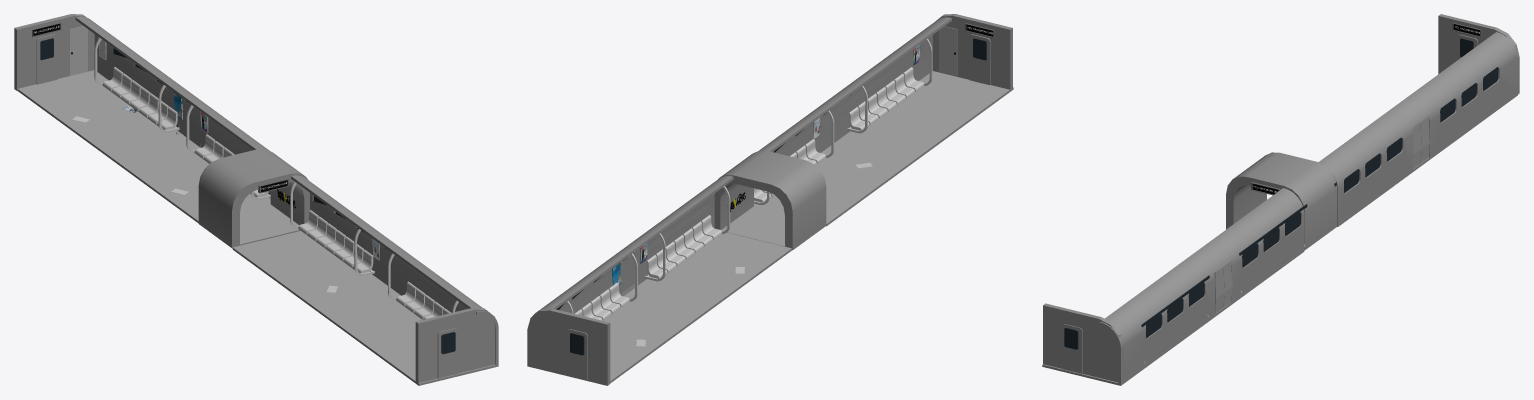
Rendered from MetroEmpty.fbx.
3 renders of one model, left to right at view 1: azimuth 30°, elevation 25°; view 2: azimuth 150°, elevation 25°; view 3: azimuth 330°, elevation 25°, orthographic.
Parts seen in each view (by area): view 1: Cube.012, Cube.011, Cube.014, Cube.013, Cube.020, Cube.021, Cube.017, Cube.001, Cube.002, Cube.005, Cube.041, Cube.009 (+2 smaller); view 2: Cube.012, Cube.011, Cube.014, Cube.020, Cube.013, Cube.009, Cube.001, Cube.017, Cube.044, Cube.041, Cube.005, Cube.021 (+2 smaller); view 3: Cube.012, Cube.011, Cube.014, Cube.013, Cube.020, Cube, Cube.008, Cube.041, Cube.019, Cube.032.
Part boxes in pixels (x1,y1,x2,y2): Cube.012: (232, 175, 498, 385); Cube.011: (17, 16, 270, 223); Cube.014: (198, 149, 309, 248); Cube.013: (415, 307, 495, 383); Cube.020: (14, 14, 94, 90); Cube.021: (298, 210, 373, 273); Cube.017: (102, 67, 177, 129); Cube.001: (396, 281, 450, 319); Cube.002: (70, 26, 87, 75); Cube.005: (36, 34, 57, 84); Cube.041: (437, 328, 458, 378); Cube.009: (194, 134, 268, 197); Cube.012: (754, 17, 1013, 226); Cube.011: (533, 176, 791, 383); Cube.014: (714, 150, 826, 250); Cube.020: (527, 308, 610, 385); Cube.013: (933, 14, 1012, 89); Cube.009: (646, 215, 721, 278); Cube.001: (849, 67, 924, 130); Cube.017: (574, 282, 629, 320); Cube.044: (939, 26, 957, 76); Cube.041: (969, 34, 990, 85); Cube.005: (566, 329, 587, 379); Cube.021: (754, 139, 825, 202); Cube.012: (1042, 188, 1304, 385); Cube.011: (1318, 32, 1517, 226); Cube.014: (1226, 152, 1337, 250); Cube.013: (1043, 303, 1124, 384); Cube.020: (1438, 14, 1519, 94); Cube: (1239, 204, 1307, 267); Cube.008: (1141, 275, 1209, 337); Cube.041: (1061, 324, 1082, 373); Cube.019: (1334, 137, 1402, 192); Cube.032: (1440, 67, 1498, 122).
Bounding box in the file's own units: 6371 × 4686 × 55709.
